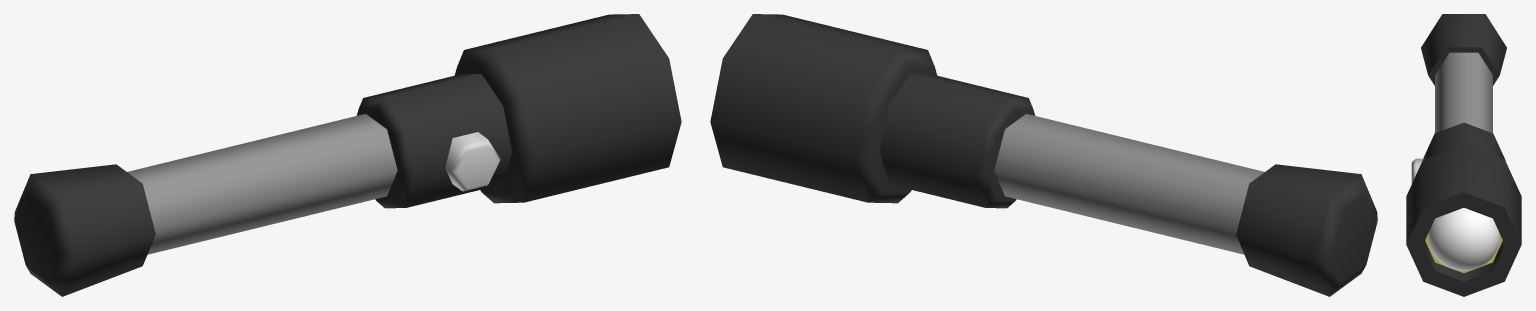
Rendered from SM_MergedFlashlight.obj.
The picture shows the model from 3 angles, left to right: view 1: azimuth 30°, elevation 25°; view 2: azimuth 150°, elevation 25°; view 3: azimuth 270°, elevation 25°; orthographic projection. The views are drawn at different scales.
Parts seen in each view (by area): view 1: SM_MergedFlashlight_M_Material; view 2: SM_MergedFlashlight_M_Material; view 3: SM_MergedFlashlight_M_Material, SM_MergedFlashlight_M_FlashlightGlow.
Part boxes in pixels (x1=…): SM_MergedFlashlight_M_Material: x1=14, y1=14, x2=681, y2=296; SM_MergedFlashlight_M_Material: x1=710, y1=14, x2=1377, y2=296; SM_MergedFlashlight_M_Material: x1=1406, y1=14, x2=1521, y2=296; SM_MergedFlashlight_M_FlashlightGlow: x1=1428, y1=208, x2=1499, y2=270.
Size of the model in its own units: 0.3343 by 0.0794 by 0.0794.
Materials: 2 (1 with a texture image).
